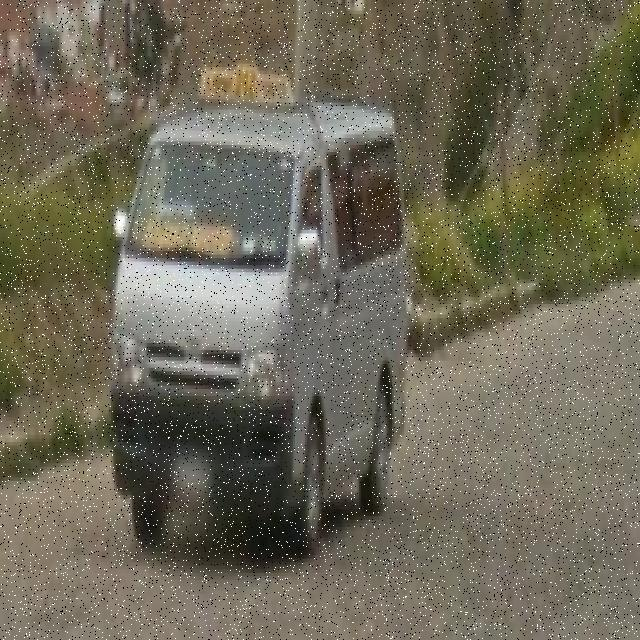cars: (105, 71, 406, 557)
